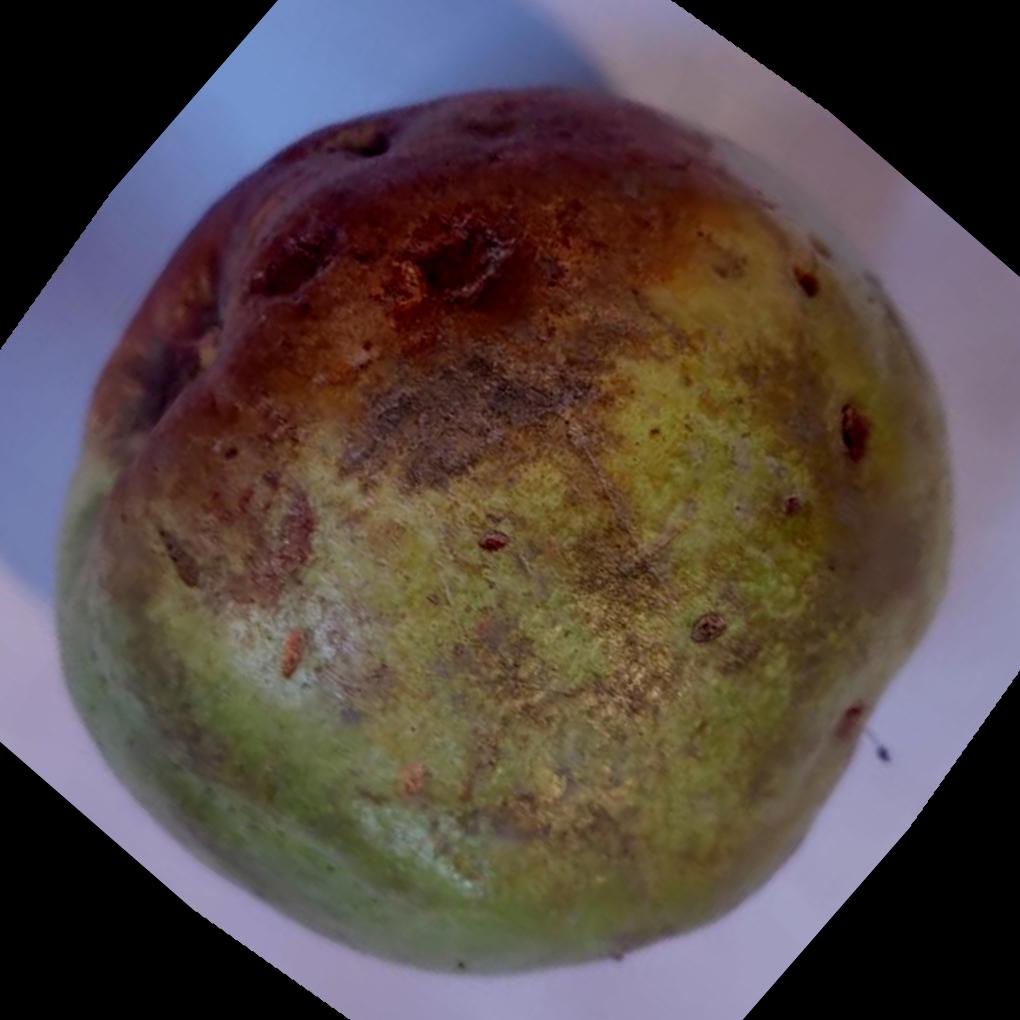FreshOrange: (49, 87, 955, 980)
